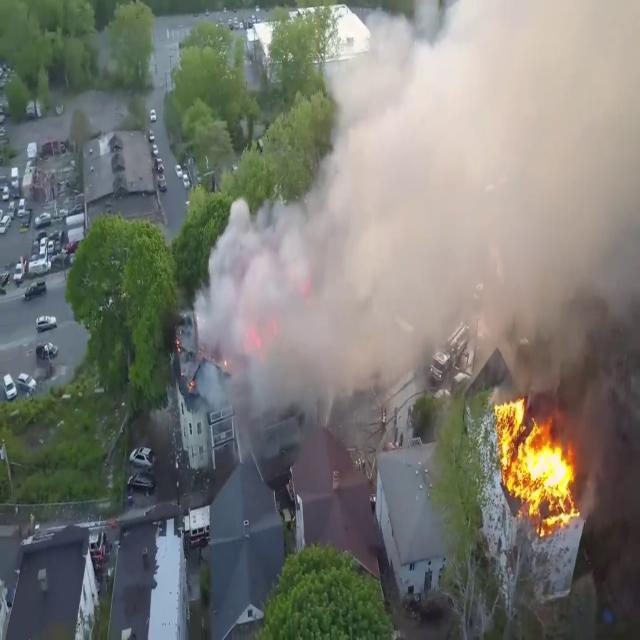Fire: (490, 386, 580, 528)
Smoke: (191, 0, 640, 466)
